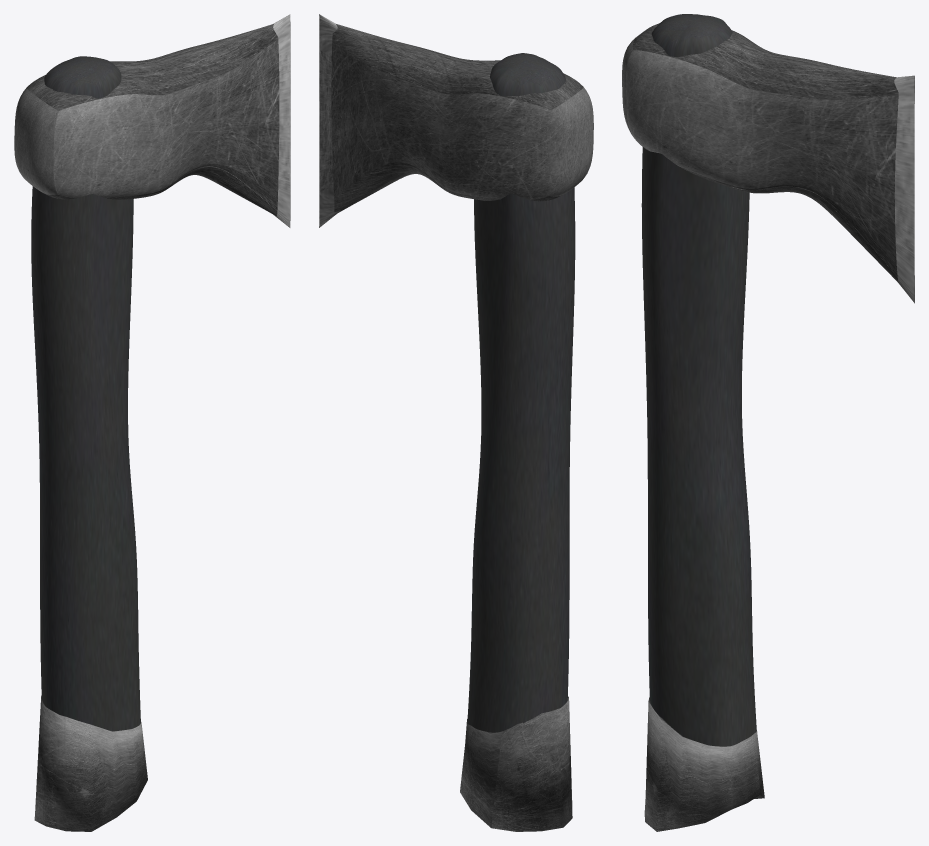
The model's file is FrostAxe.fbx.
The picture shows the model from 3 angles, left to right: view 1: azimuth 30°, elevation 25°; view 2: azimuth 150°, elevation 25°; view 3: azimuth 330°, elevation 25°; orthographic projection. The views are drawn at different scales.
Parts seen in each view (by area): view 1: Axe; view 2: Axe; view 3: Axe.
Boxes of the visible parts, x1,y1,x2,y2 form: Axe: (14,14,290,831); Axe: (319,14,593,831); Axe: (622,14,914,831).
Size of the model in its own units: 41.56 by 112 by 13.44.
